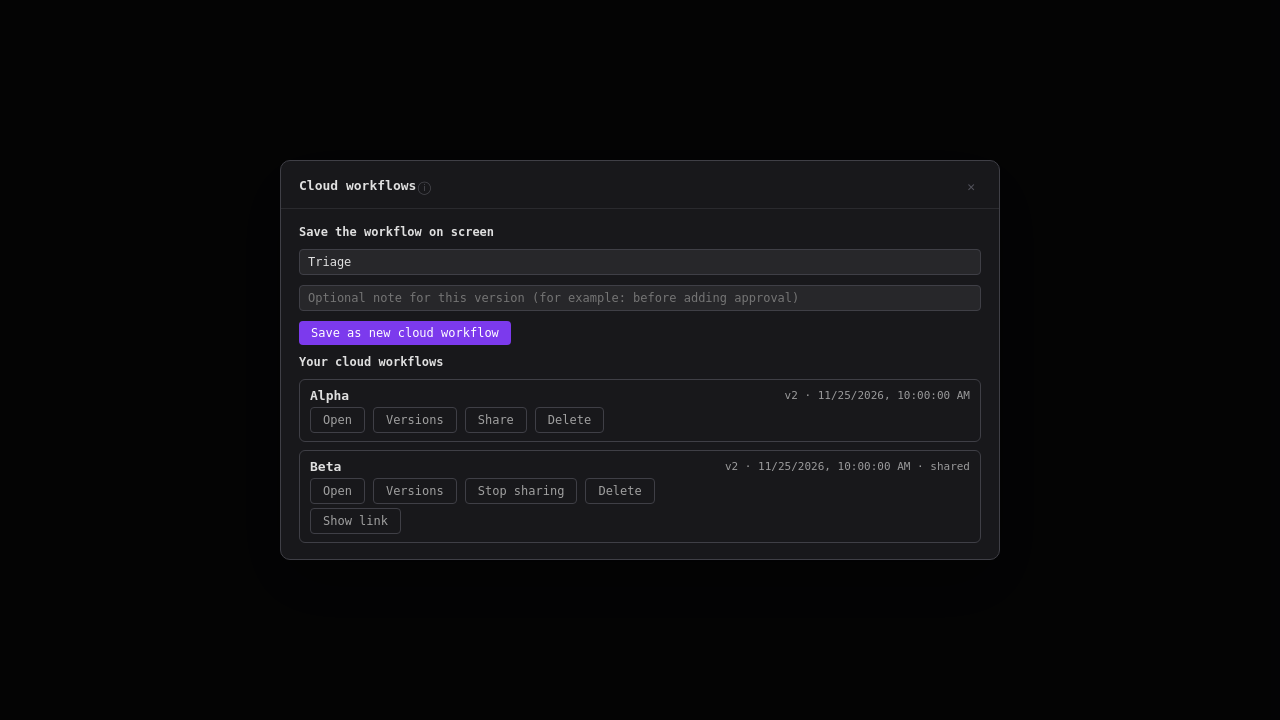
Test: CloudModal — list and save › saves the workflow on screen as a new cloud workflow and ties the editor to it
Expected: the text "Alpha" is shown, x1=310 y1=388 x2=349 y2=403
Replace the text in the field named "Name" with "Triage v1" at (640, 262), box x1=299 y1=249 x2=981 y2=275
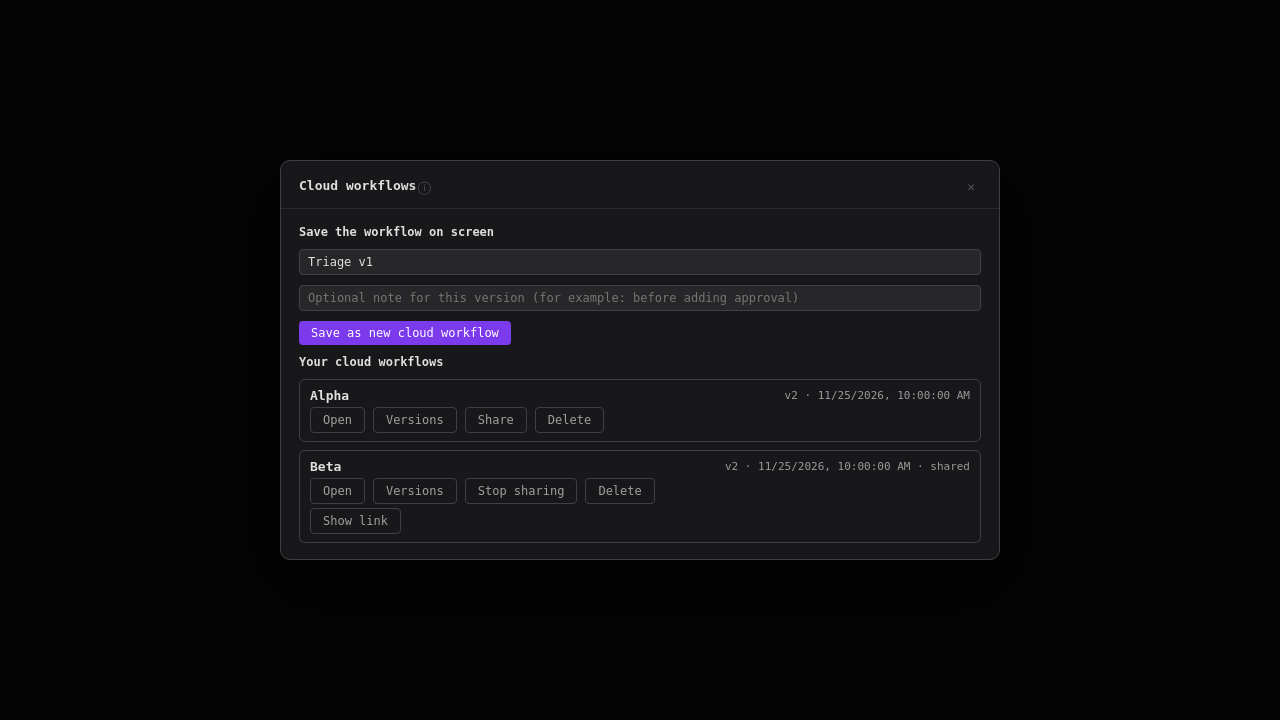
Replace the text in the field named "Version note" with "first cut" at (640, 298), box x1=299 y1=285 x2=981 y2=311
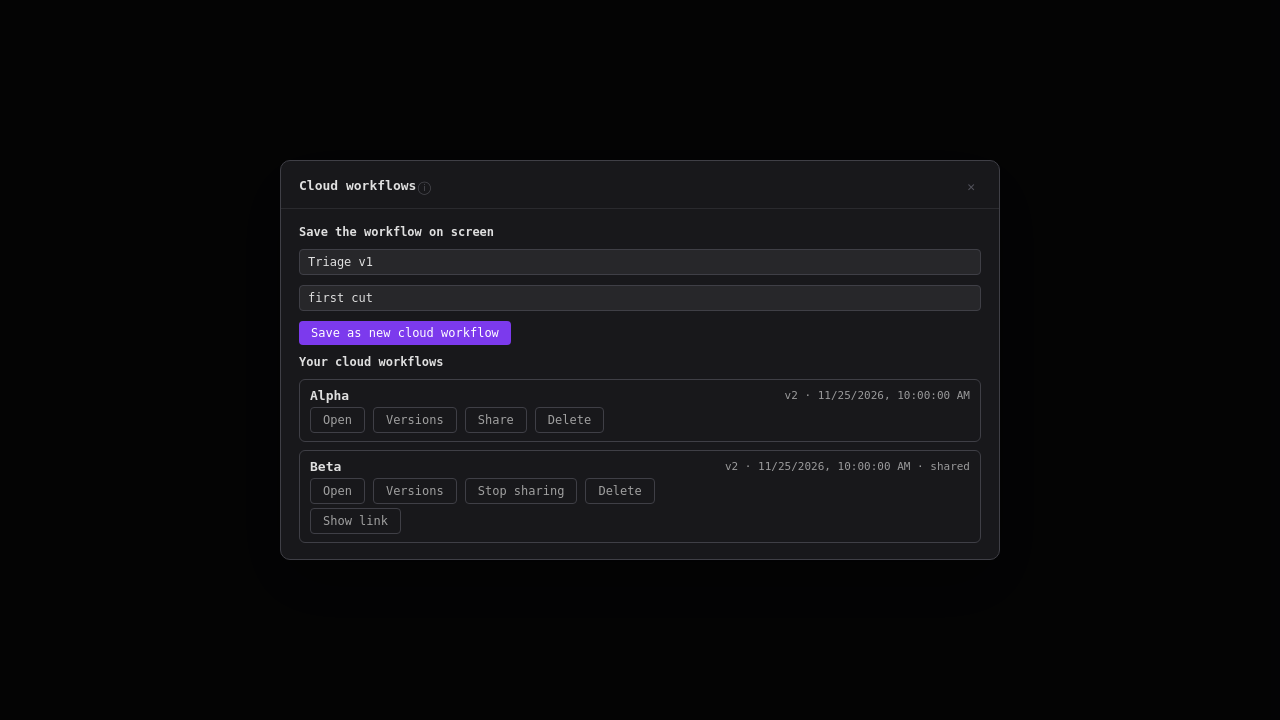
Click the button "Save as new cloud workflow" at (405, 333), box x1=299 y1=321 x2=511 y2=345
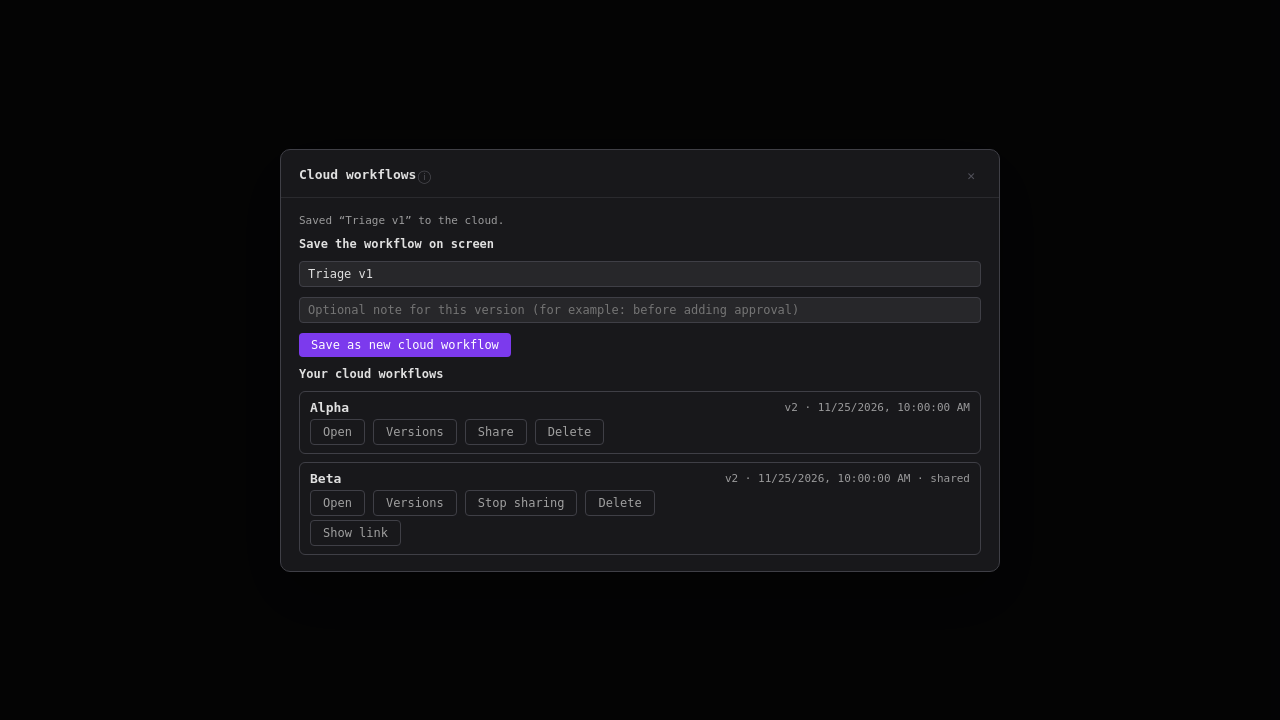
Now the message reads "Saved “Triage v1” to the cloud.", box x1=299 y1=214 x2=504 y2=226
